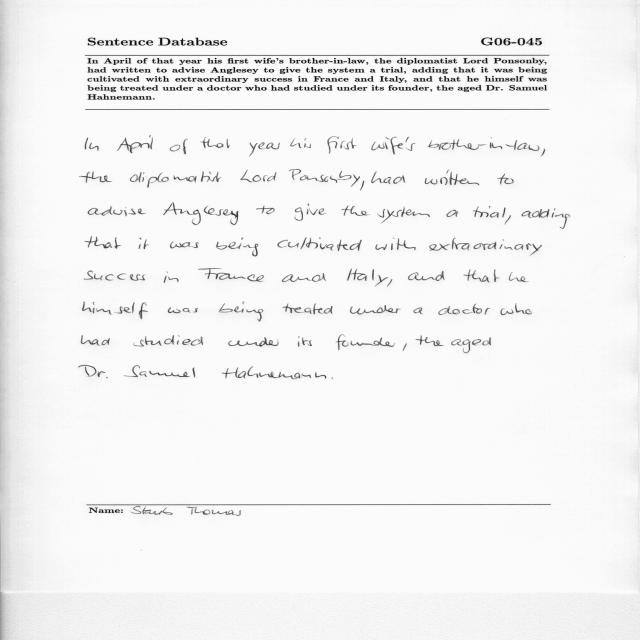word: (385, 137, 539, 154), (429, 238, 542, 256), (163, 203, 238, 225), (130, 172, 221, 188), (289, 169, 360, 187), (222, 367, 326, 379), (277, 237, 362, 251), (82, 302, 148, 319), (522, 208, 570, 229), (124, 365, 195, 378), (336, 335, 395, 350), (198, 269, 264, 282), (219, 302, 264, 321), (377, 207, 430, 223), (133, 335, 203, 347), (216, 238, 259, 257), (425, 170, 479, 185), (348, 269, 393, 287), (84, 270, 145, 281), (117, 136, 153, 154), (451, 338, 491, 354), (88, 207, 146, 217), (438, 304, 490, 315), (340, 138, 385, 150), (375, 238, 416, 251), (294, 204, 325, 221), (228, 337, 279, 347), (283, 304, 333, 314), (463, 270, 500, 283), (249, 142, 280, 157), (350, 305, 401, 314), (241, 170, 277, 182), (85, 237, 121, 249), (372, 172, 406, 184), (282, 273, 326, 282), (500, 303, 532, 315), (79, 366, 108, 379), (80, 172, 112, 183), (201, 137, 230, 148), (341, 205, 370, 216), (81, 335, 110, 346), (473, 206, 499, 218), (414, 271, 445, 281), (416, 336, 444, 346), (170, 139, 188, 154), (327, 136, 339, 154), (290, 138, 311, 148), (170, 242, 198, 249), (509, 273, 528, 283), (497, 174, 514, 185), (85, 138, 99, 151), (164, 271, 179, 283), (168, 307, 198, 313), (256, 205, 275, 214), (298, 336, 312, 347), (502, 208, 511, 225), (139, 238, 150, 249), (447, 210, 459, 217), (408, 273, 418, 281), (413, 308, 423, 314), (360, 181, 364, 191), (403, 343, 407, 351), (541, 149, 545, 156), (332, 378, 333, 379)
